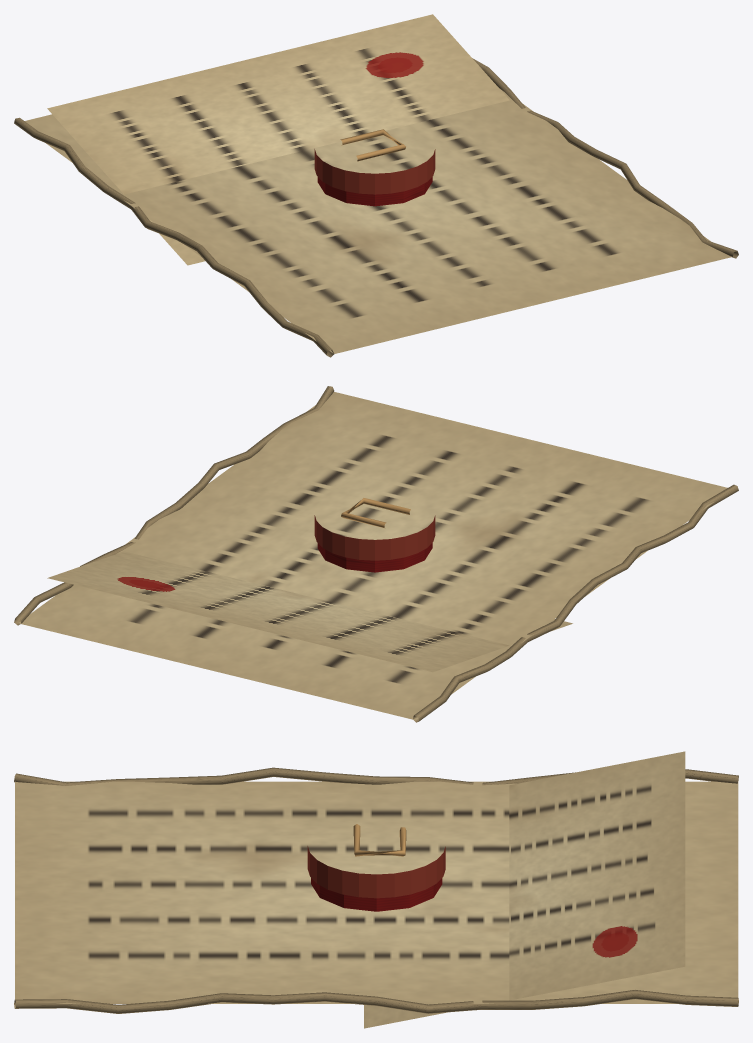
File: letter.glb
3 views of the same model, one above another, from view 1: azimuth 30°, elevation 25°; view 2: azimuth 150°, elevation 25°; view 3: azimuth 270°, elevation 25° (orthographic). The views are drawn at different scales.
Visible parts, largest first — view 1: Paper, Flap, Art_UnbleachedPaper, Art_CinnabarBinding, Seal, Art_OldGoldThread; view 2: Paper, Flap, Art_UnbleachedPaper, Art_CinnabarBinding, Seal, Art_OldGoldThread; view 3: Paper, Flap, Art_UnbleachedPaper, Art_CinnabarBinding, Seal, Art_OldGoldThread.
Part boxes in pixels (box(x1,y1,x2,y2)): Paper: box(25, 88, 731, 353); Flap: box(47, 14, 509, 265); Art_UnbleachedPaper: box(14, 58, 738, 357); Art_CinnabarBinding: box(314, 149, 435, 194); Seal: box(317, 177, 432, 206); Art_OldGoldThread: box(340, 129, 405, 161); Paper: box(18, 392, 727, 720); Flap: box(47, 551, 572, 672); Art_UnbleachedPaper: box(14, 386, 738, 722); Art_CinnabarBinding: box(314, 515, 435, 560); Seal: box(317, 543, 432, 572); Art_OldGoldThread: box(341, 498, 410, 528); Paper: box(15, 781, 738, 1003); Flap: box(364, 751, 685, 1028); Art_UnbleachedPaper: box(14, 767, 738, 1013); Art_CinnabarBinding: box(307, 846, 445, 898); Seal: box(311, 878, 442, 911); Art_OldGoldThread: box(353, 824, 406, 856).
Bounding box in the file's own units: 0.1667 × 0.0275 × 0.2205.
6 materials, 4 textured.
